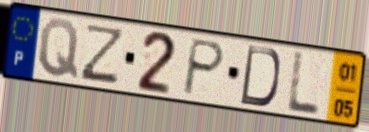2: (136, 29, 179, 97)
D: (238, 43, 282, 109)
L: (284, 50, 322, 118)
P: (179, 37, 227, 98)
Q: (36, 16, 80, 81)
Z: (78, 22, 128, 86)
